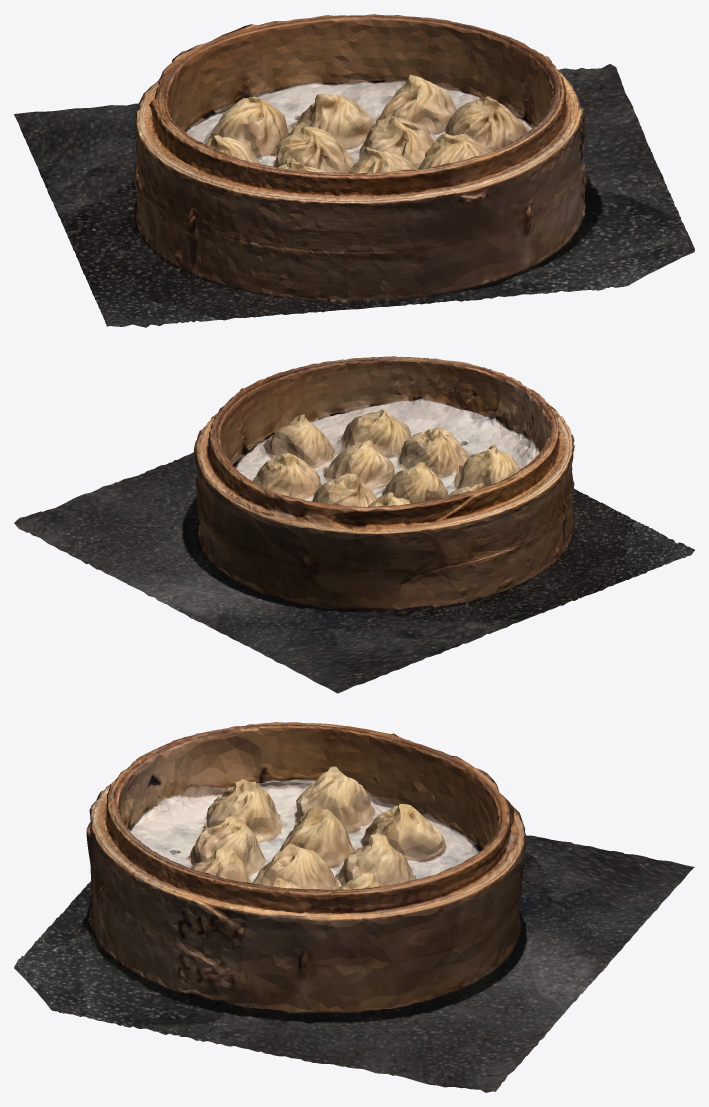
The model's file is momos.glb.
The picture shows the model from 3 angles, top to bottom: view 1: azimuth 30°, elevation 25°; view 2: azimuth 150°, elevation 25°; view 3: azimuth 270°, elevation 25°; orthographic projection. The views are drawn at different scales.
Size of the model in its own units: 1.83 by 0.368 by 1.69.
1 material, 1 textured.
